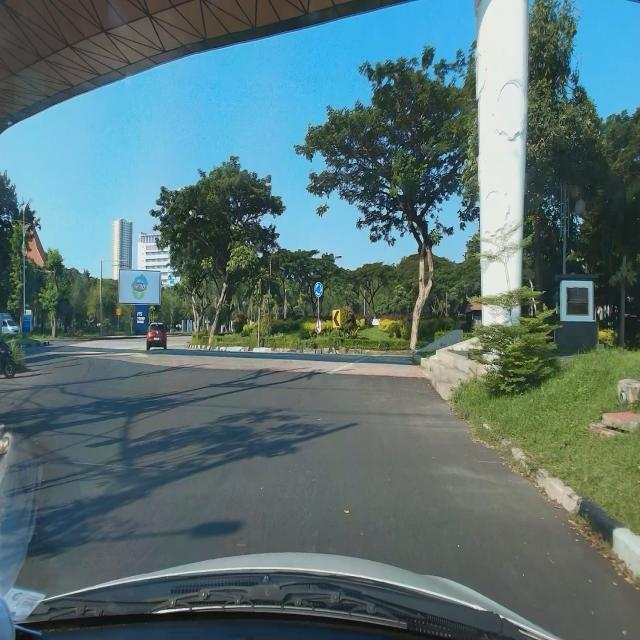car: (146, 322, 167, 351)
license-plate: (154, 337, 160, 341)
